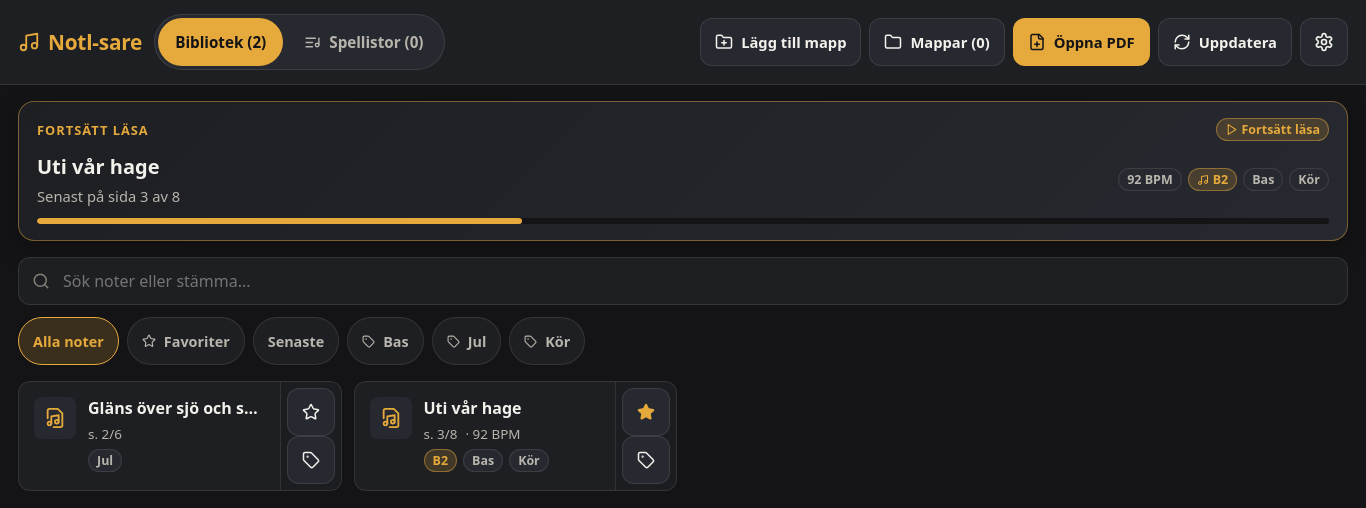
Scenario: LibraryView & SetlistView › renders resume card, filters by search/favorites/tags, edits tags, and toggles favorite
Later steps or results of the test are not shown.
Expected: the 1st text "Fortsätt läsa" is shown, [37, 120, 149, 138]
Expected: the 1st text "B2" is shown, [1213, 171, 1228, 188]
Note: Search filters down to matching score
Type "Gläns" into the search field with placeholder "Sök noter eller stämma..." at (683, 281), box [18, 257, 1348, 305]
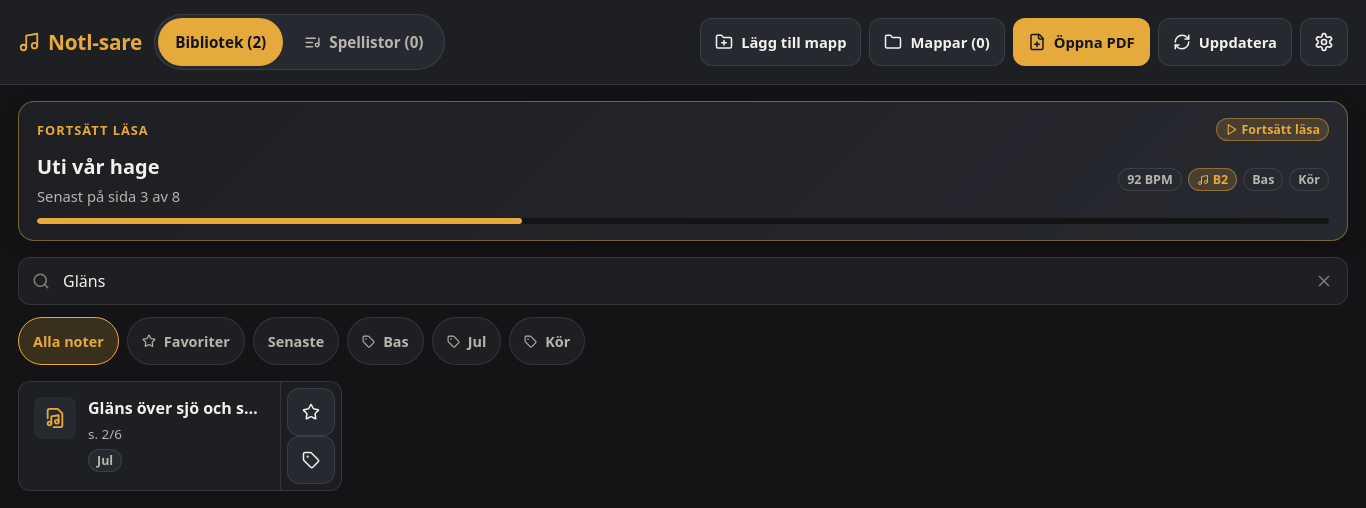
Expected: the text "Gläns över sjö och strand" is shown, [88, 397, 264, 419]
Note: Clear search and test favorites filter
Click the button named "Rensa sökning" at (1324, 281), box [1300, 257, 1348, 305]
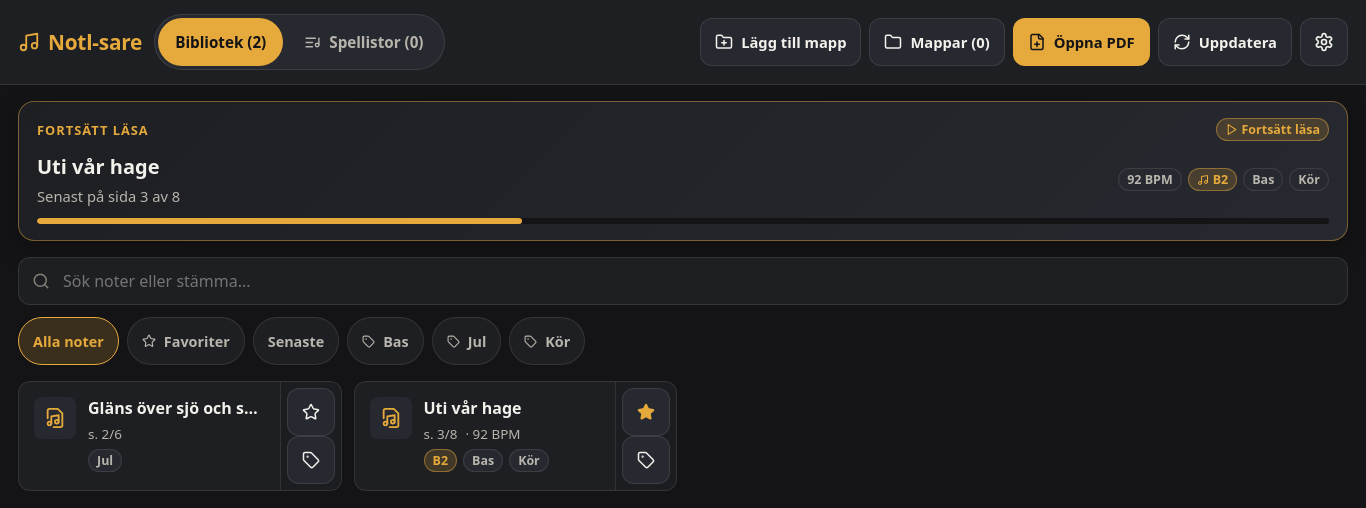
Click the button "Favoriter" at (186, 341), box [127, 317, 245, 365]
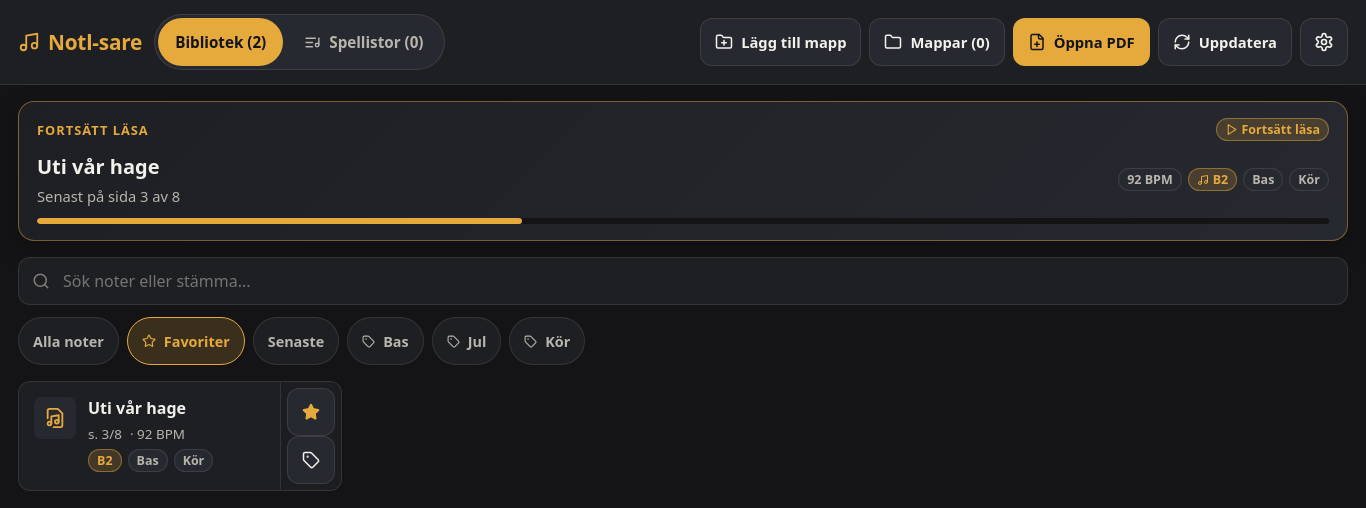
Result: the button "Gläns över sjö och strand" is gone
